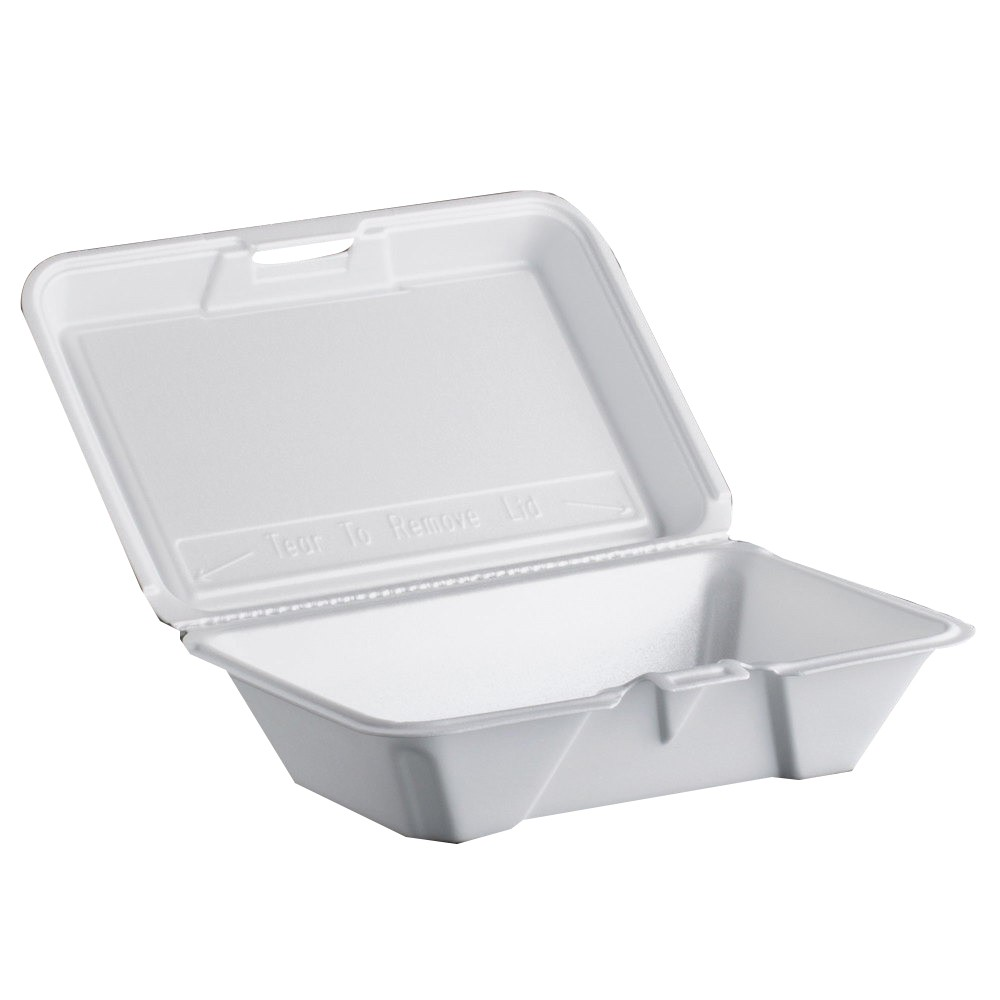styrofoam: (22, 187, 975, 851)
